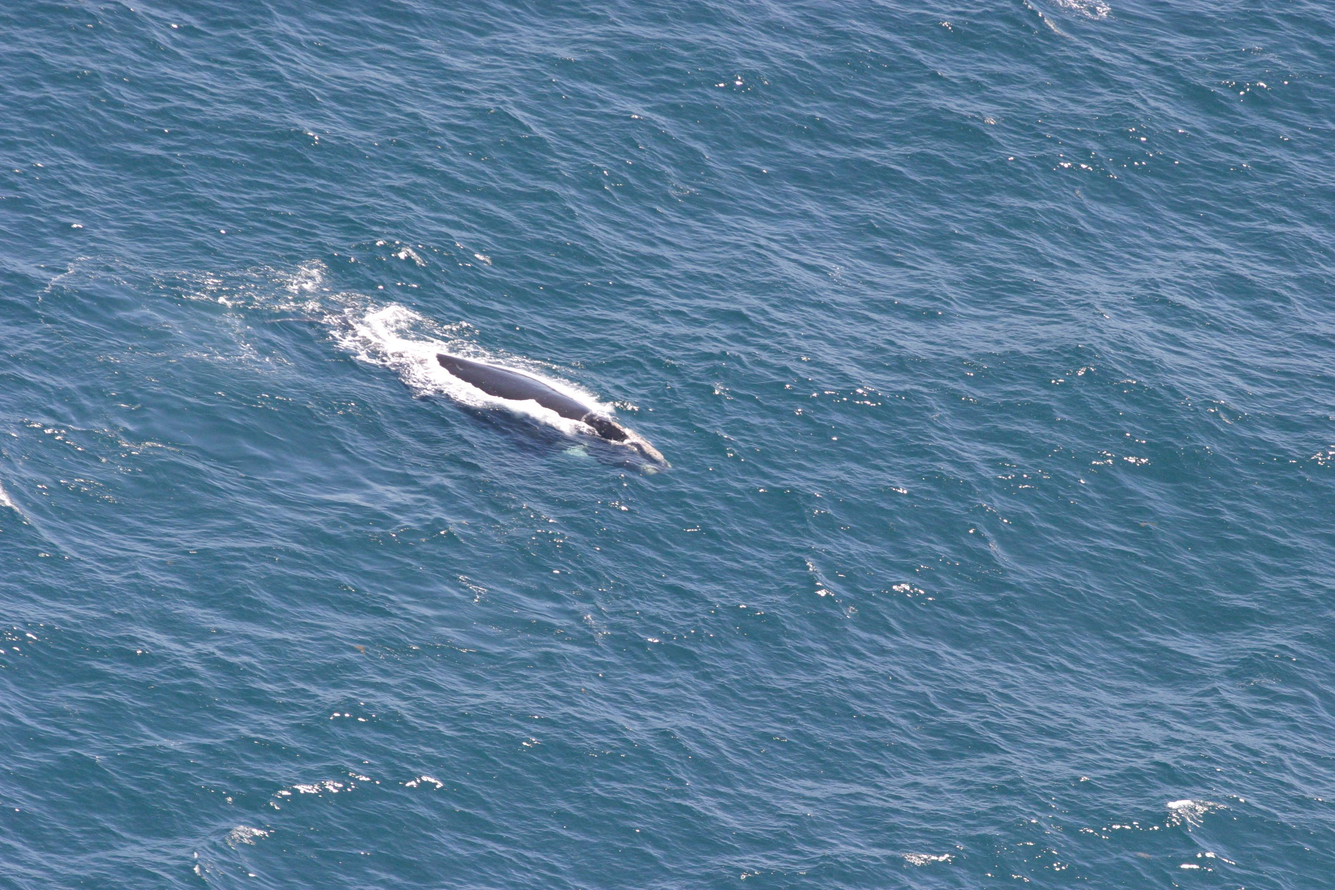whale: (249, 279, 678, 486)
